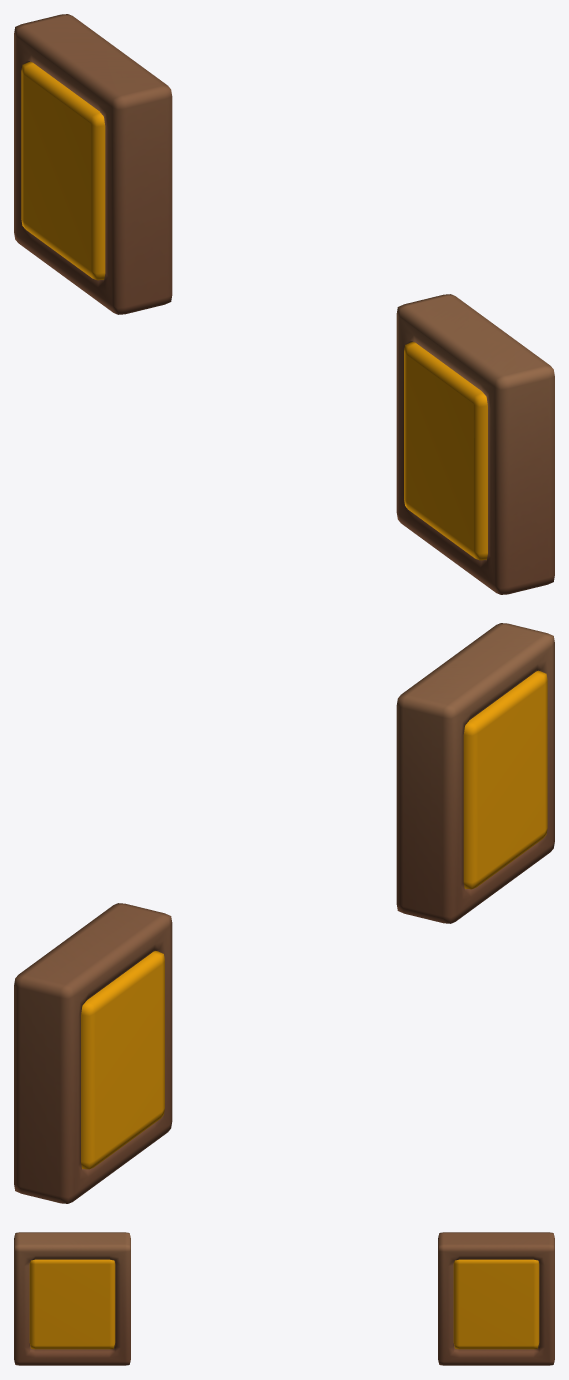
File: SM_Clay_Window_02.fbx
3 views of the same model, one above another, from view 1: azimuth 30°, elevation 25°; view 2: azimuth 150°, elevation 25°; view 3: azimuth 270°, elevation 25° (orthographic). The views are drawn at different scales.
Parts seen in each view (by area): view 1: SM_Clay_Window_02; view 2: SM_Clay_Window_02; view 3: SM_Clay_Window_02.
Boxes of the visible parts, box(x1,y1,x2,y2) form: SM_Clay_Window_02: box(14, 14, 554, 594); SM_Clay_Window_02: box(14, 623, 554, 1203); SM_Clay_Window_02: box(14, 1232, 554, 1365).
Bounding box in the file's own units: 0.1031 × 0.3325 × 1.35.
2 materials, 1 textured.
